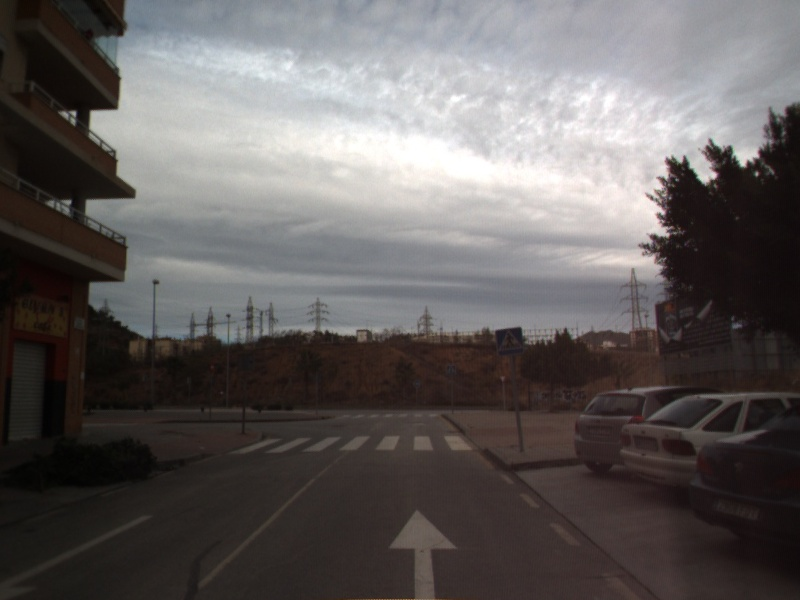STRAIGHT: (385, 505, 461, 600)
